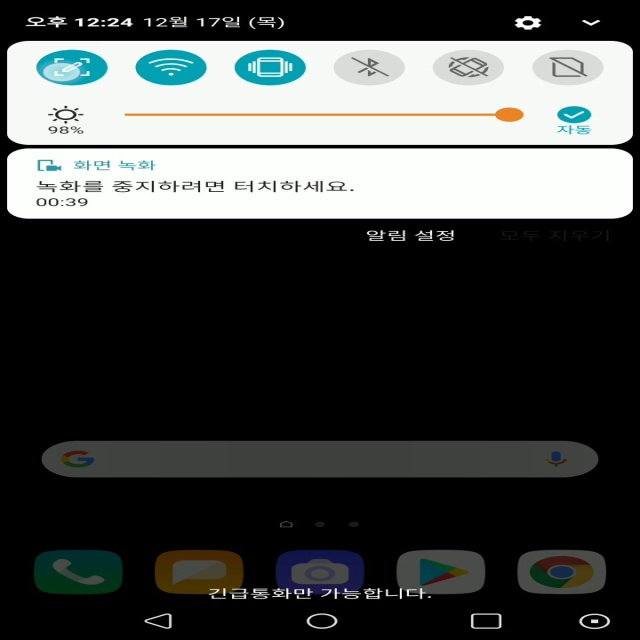Cursor: (40, 62, 84, 84)
